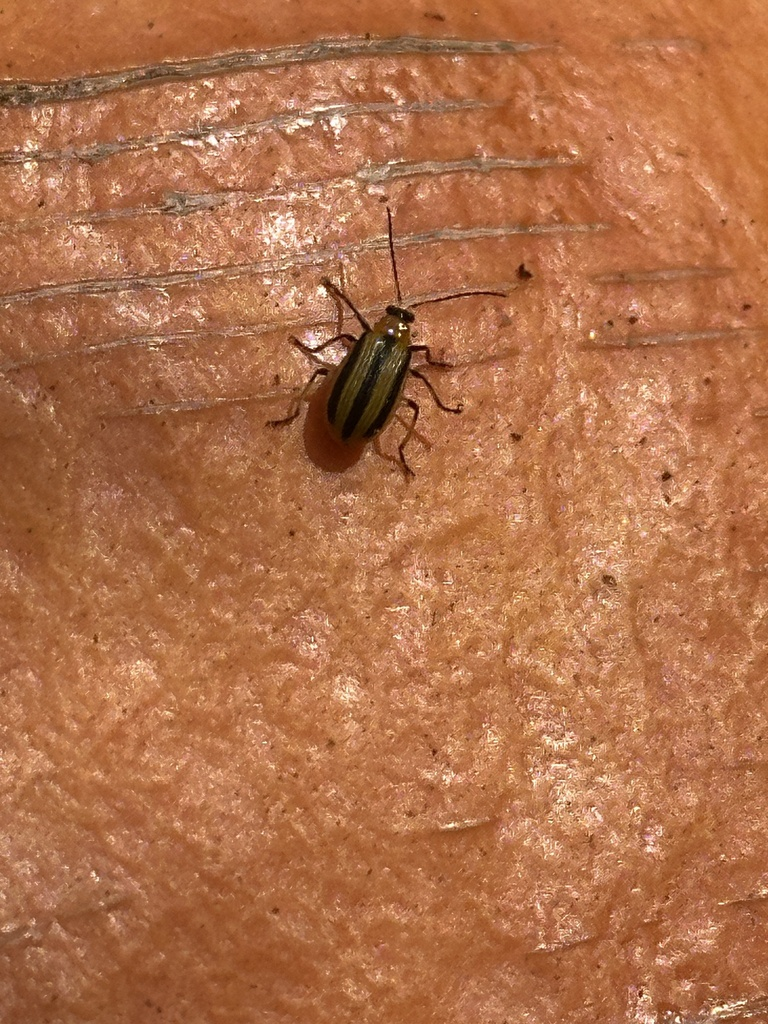potato_beetle: (184, 155, 560, 553)
